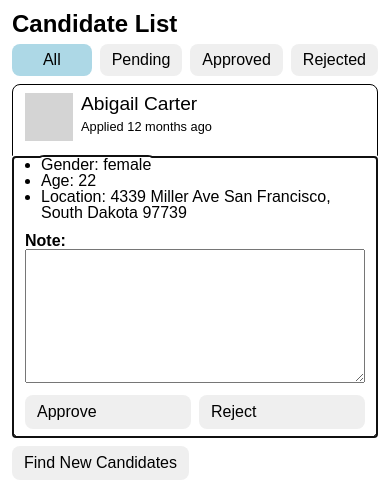
App › allows setting and undoing statuses
Expected: the radio button "All" is shown, [12, 44, 92, 76]
Click the button "Approve" at (108, 412), box [25, 395, 191, 429]
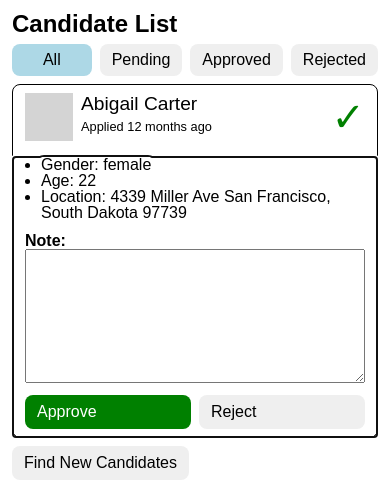
Expected: the text "✓" is shown, [332, 95, 365, 139]
Click the button "Reject" at (282, 412), box [199, 395, 365, 429]
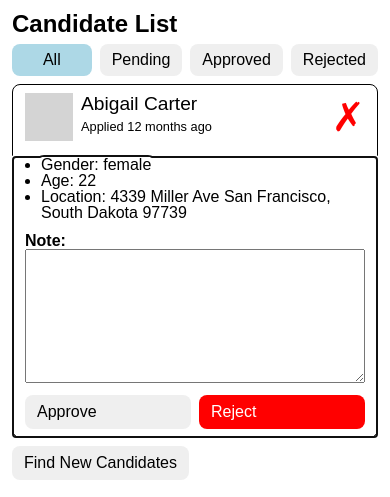
Expected: the text "✗" is shown, [332, 95, 365, 139]
Expected: no buttons "✓" are shown
// clicking the button again will reset the status
Click the button "Reject" at (282, 412), box [199, 395, 365, 429]
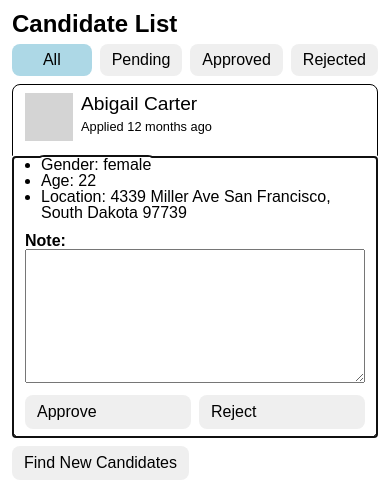
Expected: no buttons "✗" are shown
